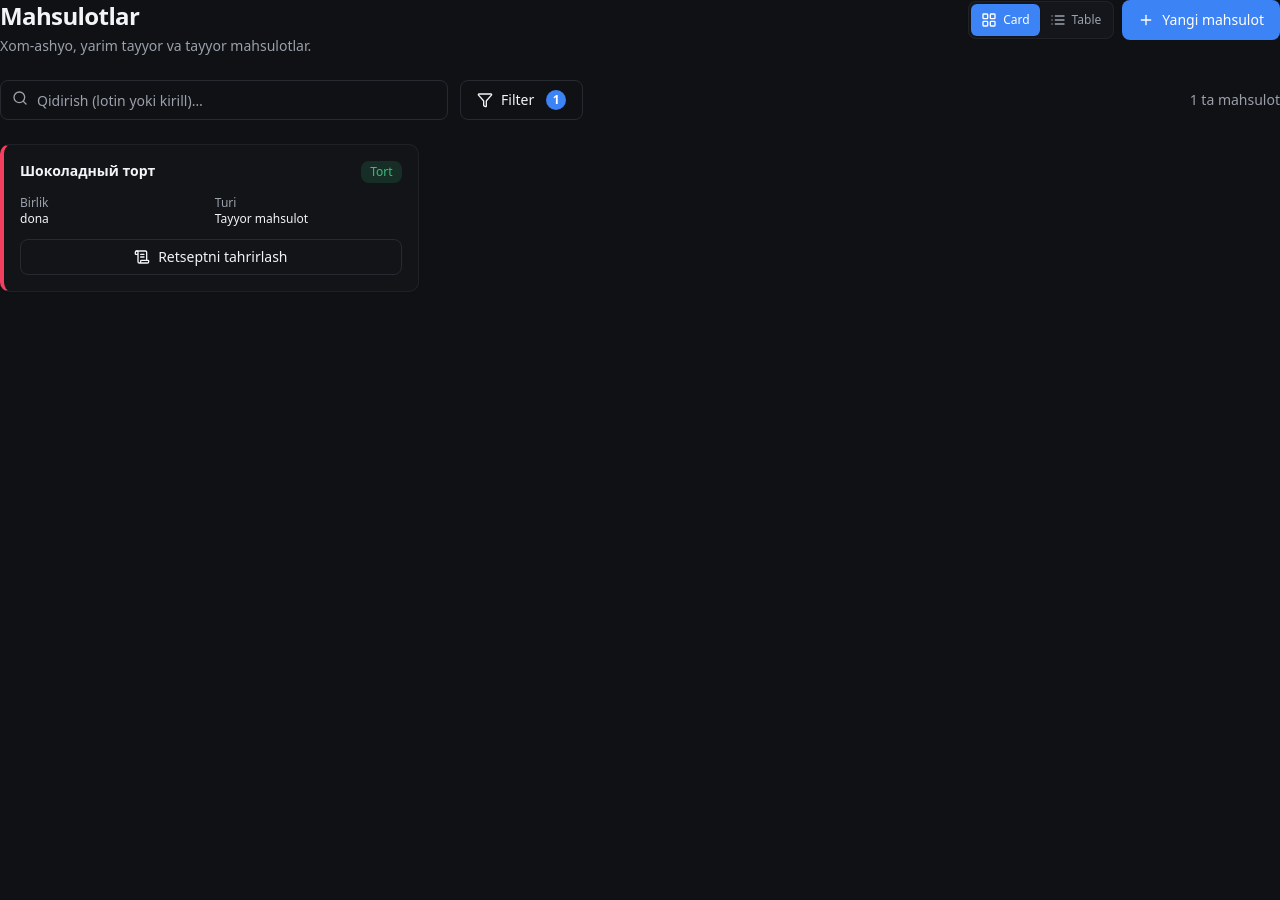
ProductsPage — EPIC 1 › filter popover can reveal raw products (EPIC 1.1)
This screenshot has width=1280, height=900.
Check: the text "Шоколадный торт" is shown, box left=20, top=161, right=155, bottom=181
Click the button with aria-label "Filtrlarni ochish".
click(522, 100)  # box left=460, top=80, right=583, bottom=120
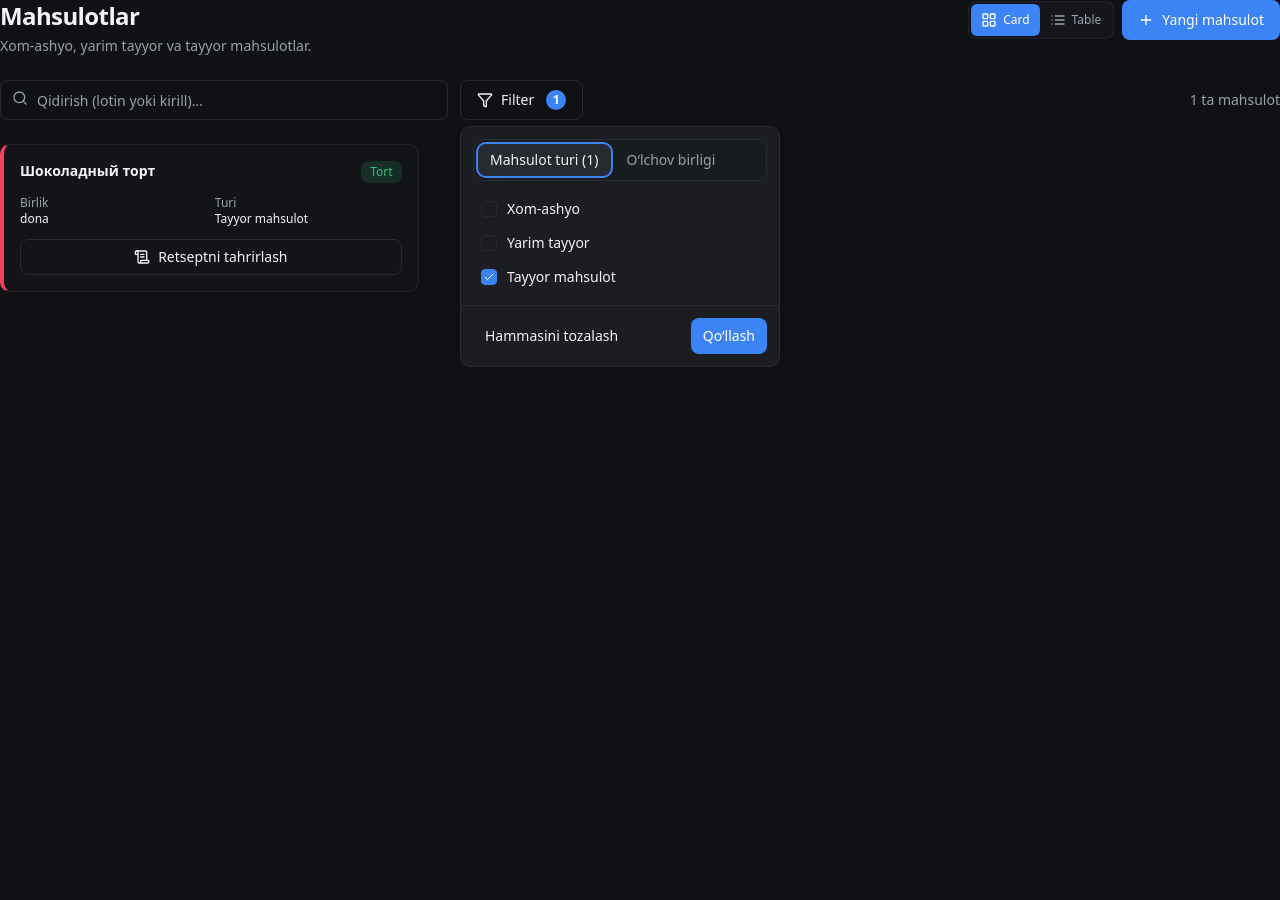
# Clear the default finished selection, pick raw, apply.
Click the button "Hammasini tozalash".
click(552, 336)  # box left=473, top=318, right=630, bottom=354
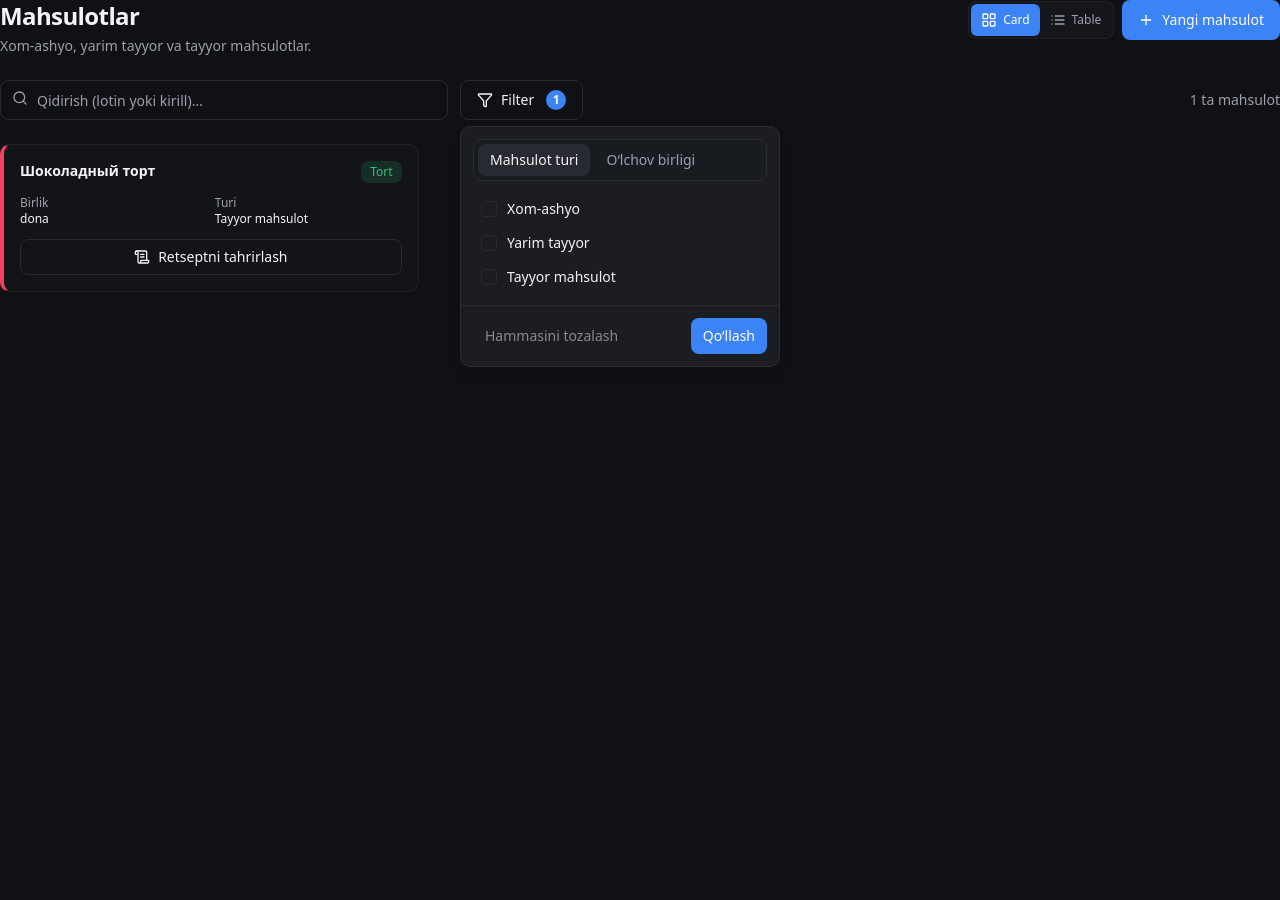
Click the checkbox labelled "Xom-ashyo".
click(544, 208)  # box left=473, top=193, right=767, bottom=225
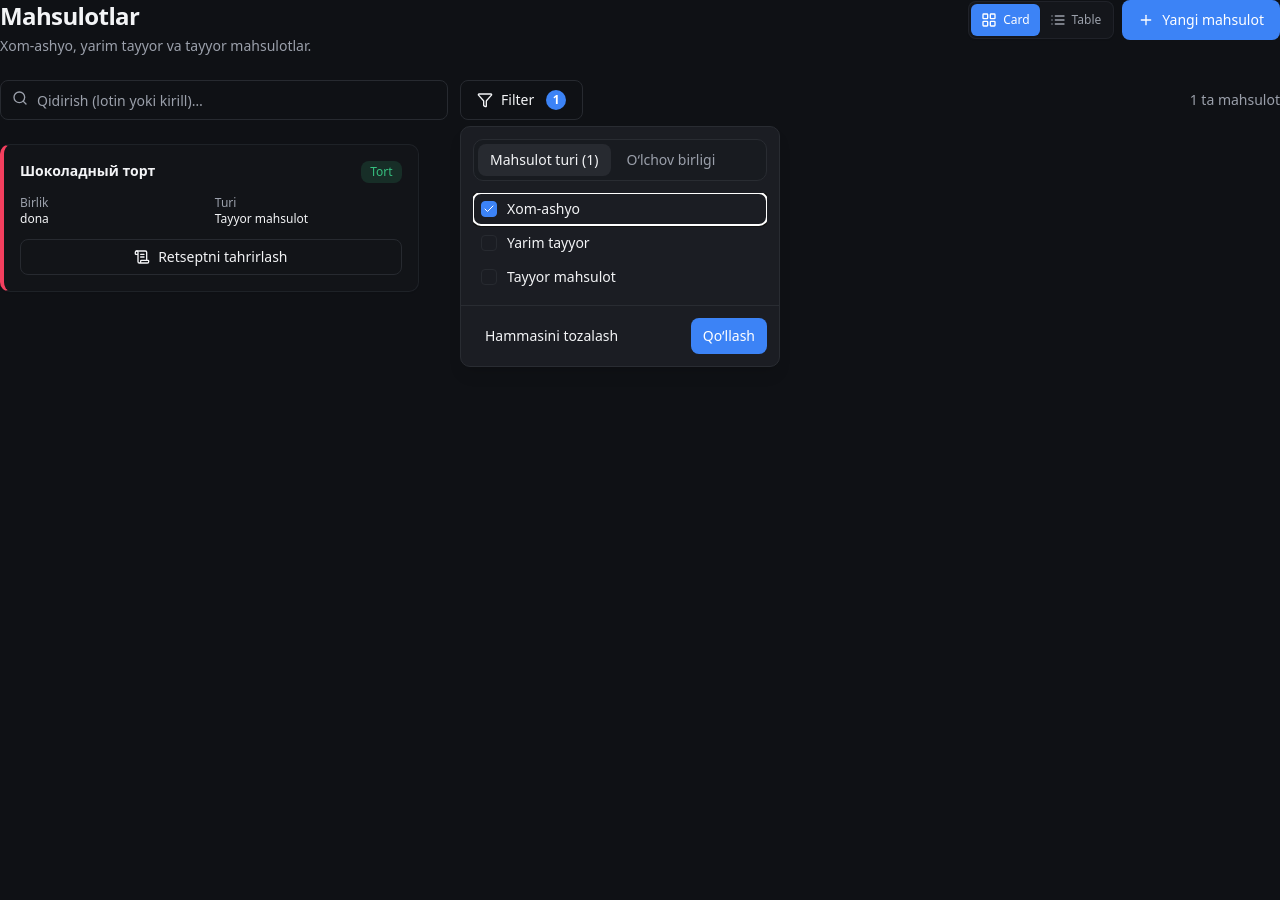
Click the button "Qo‘llash".
click(729, 336)  # box left=691, top=318, right=767, bottom=354
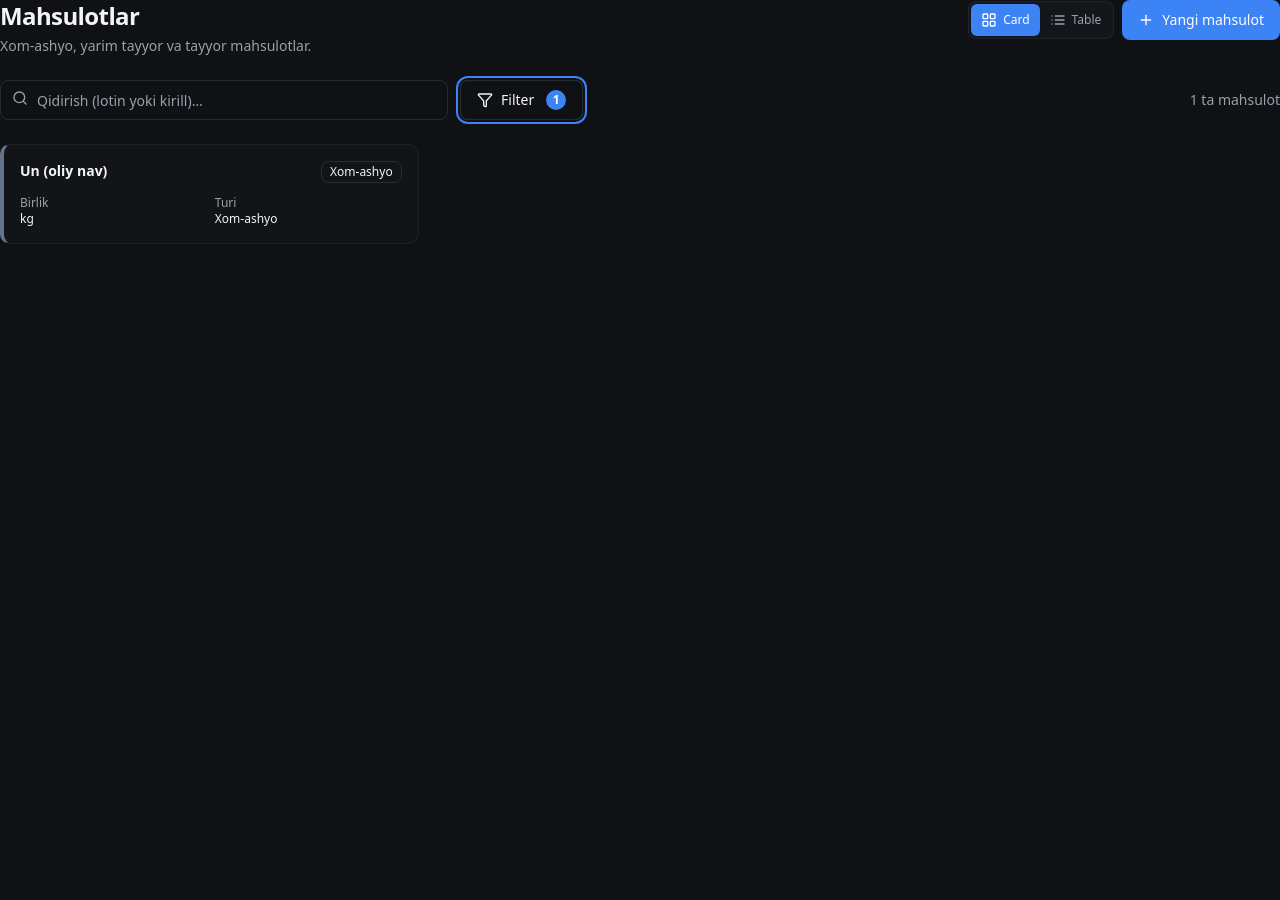
Check: the text "Un (oliy nav)" is shown, box left=20, top=161, right=107, bottom=181
Check: the text "Шоколадный торт" is gone
